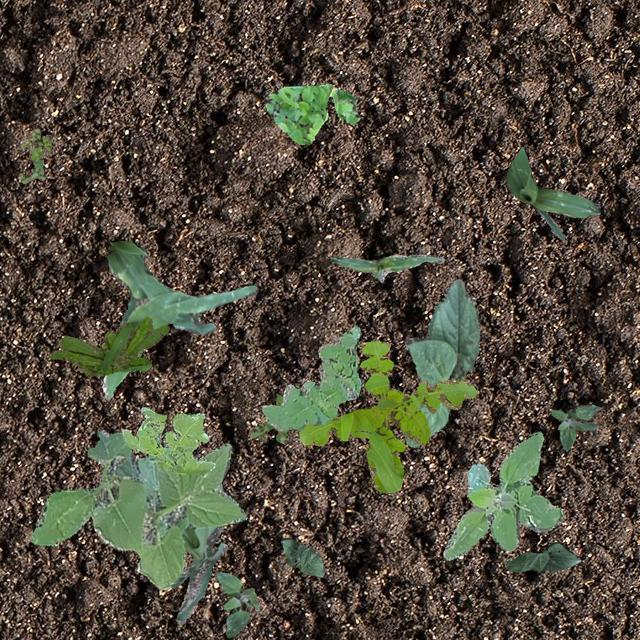crop: (96, 428, 226, 624), (101, 238, 258, 398), (404, 278, 479, 446), (504, 146, 598, 240), (329, 254, 444, 282), (504, 540, 580, 572), (280, 536, 326, 576)
weed: (29, 432, 246, 588), (298, 341, 478, 492), (442, 432, 562, 560), (260, 324, 360, 430), (49, 316, 168, 376), (120, 406, 214, 474), (262, 82, 360, 144), (215, 570, 258, 636), (550, 404, 600, 449), (248, 394, 292, 442), (19, 128, 52, 182)
